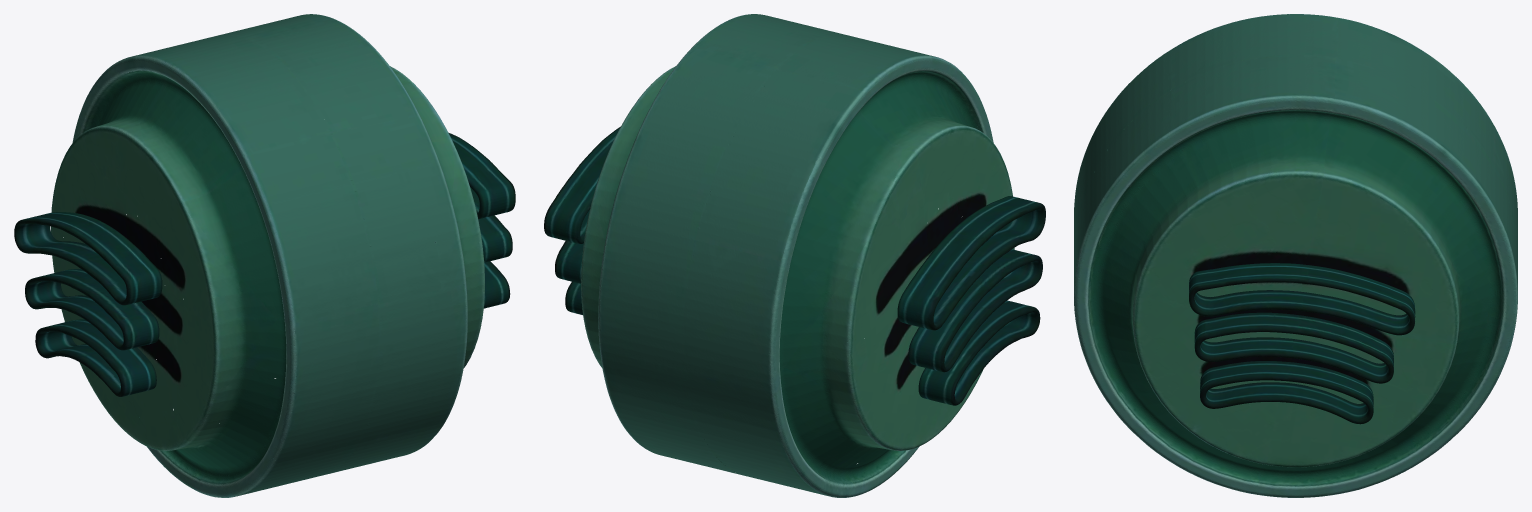
File: SpotifyModel-transformed.glb
The picture shows the model from 3 angles, left to right: view 1: azimuth 30°, elevation 25°; view 2: azimuth 150°, elevation 25°; view 3: azimuth 270°, elevation 25°; orthographic projection. The views are drawn at different scales.
Visible parts, largest first — view 1: tripo_node_f283790e-b79e-49be-9094-fce12c0c6dc5; view 2: tripo_node_f283790e-b79e-49be-9094-fce12c0c6dc5; view 3: tripo_node_f283790e-b79e-49be-9094-fce12c0c6dc5.
Part boxes in pixels (left/top/right/bottom): tripo_node_f283790e-b79e-49be-9094-fce12c0c6dc5: left=14, top=14, right=515, bottom=497; tripo_node_f283790e-b79e-49be-9094-fce12c0c6dc5: left=544, top=14, right=1045, bottom=497; tripo_node_f283790e-b79e-49be-9094-fce12c0c6dc5: left=1074, top=14, right=1517, bottom=497.
Size of the model in its own units: 0.9911 by 1 by 1.
1 material, 1 textured.
